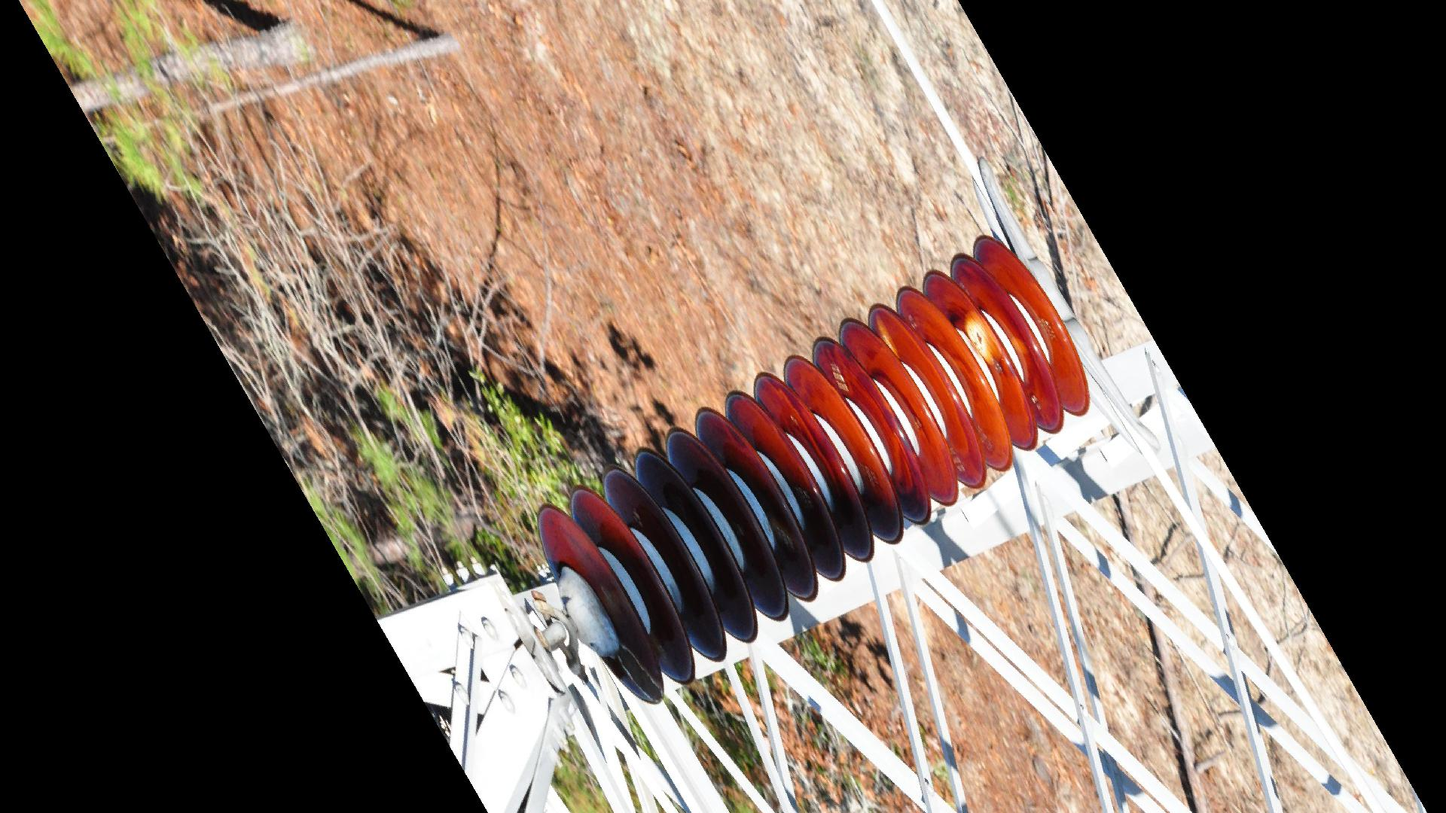insulator: (531, 230, 1094, 712)
insulator_flashover: (615, 642, 664, 705), (963, 306, 1003, 367), (872, 310, 902, 361)
